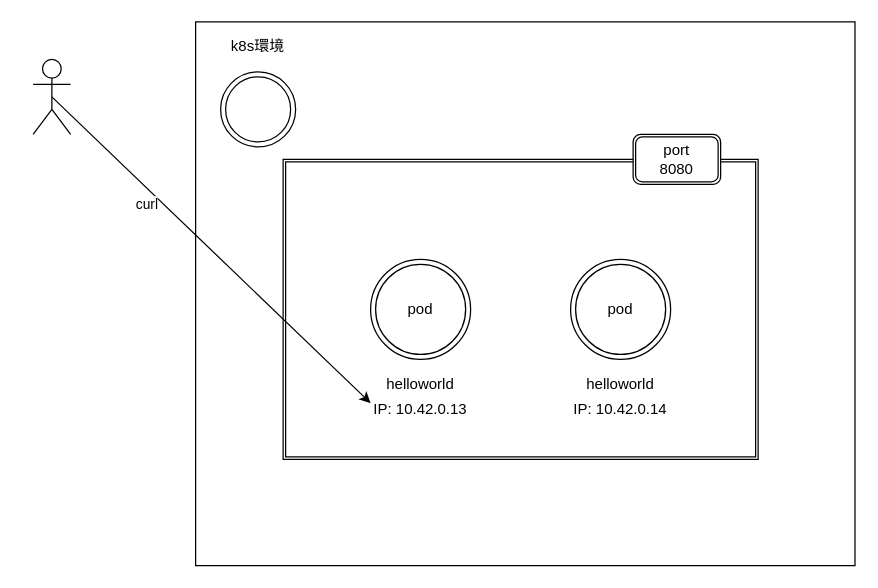
Image size: 878x588. Some labels were removed from this diagram. Here are the shapes that lost their labels. From the top down, the centre of each, then its label:
(x=51, y=96): macbook
(x=257, y=109): master
